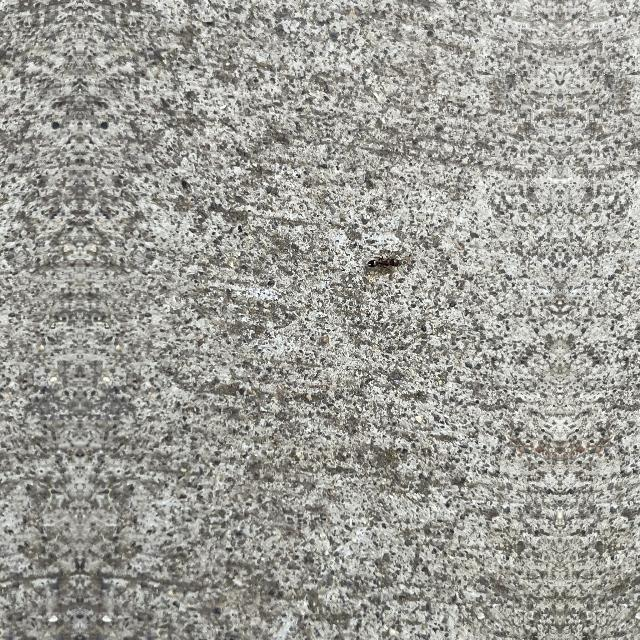Tetramorium: (359, 250, 401, 276)
